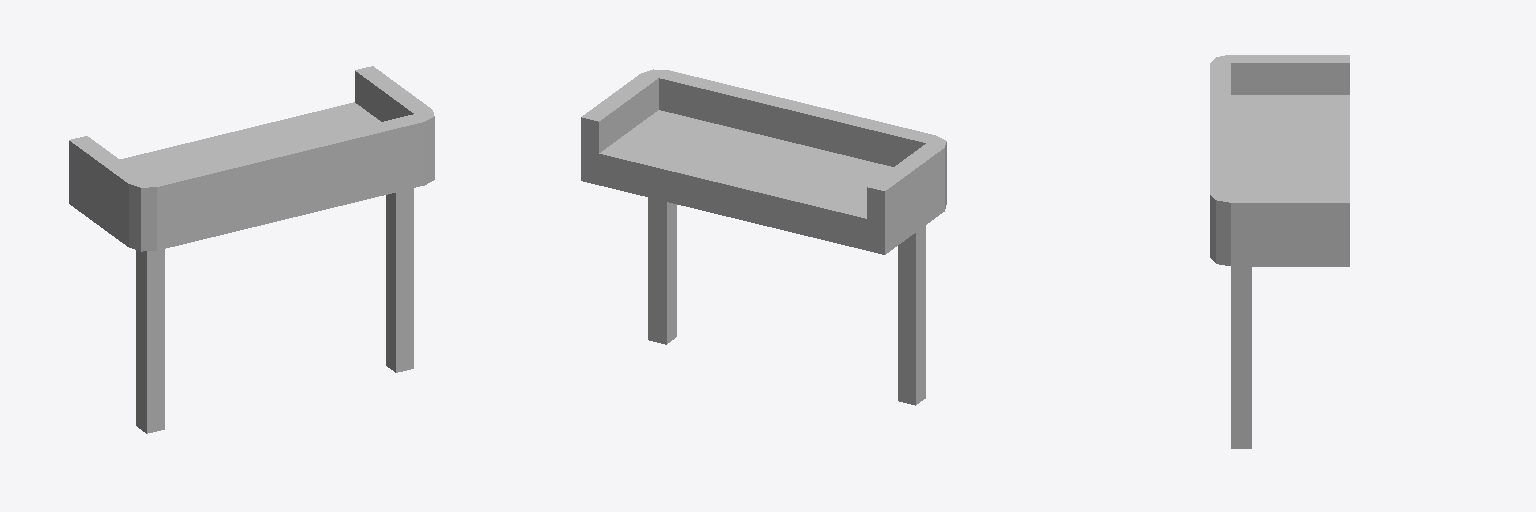
File: detail_overhang.obj
The picture shows the model from 3 angles: view 1: azimuth 30°, elevation 25°; view 2: azimuth 150°, elevation 25°; view 3: azimuth 270°, elevation 25°; orthographic projection.
Visible parts, largest first — view 1: detail_overhang; view 2: detail_overhang; view 3: detail_overhang.
Part boxes in pixels (x1,y1,x2,y2): detail_overhang: (69, 66, 434, 433); detail_overhang: (581, 69, 946, 405); detail_overhang: (1210, 55, 1349, 448).
Size of the model in its own units: 0.5 by 0.4 by 0.2.